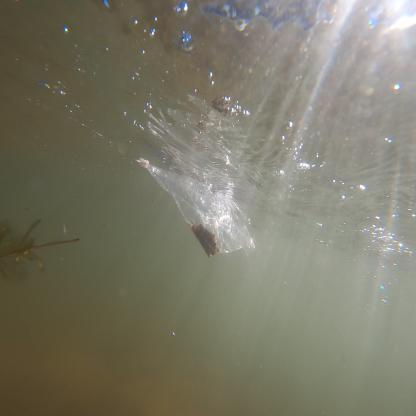Rác: (134, 140, 266, 266)
